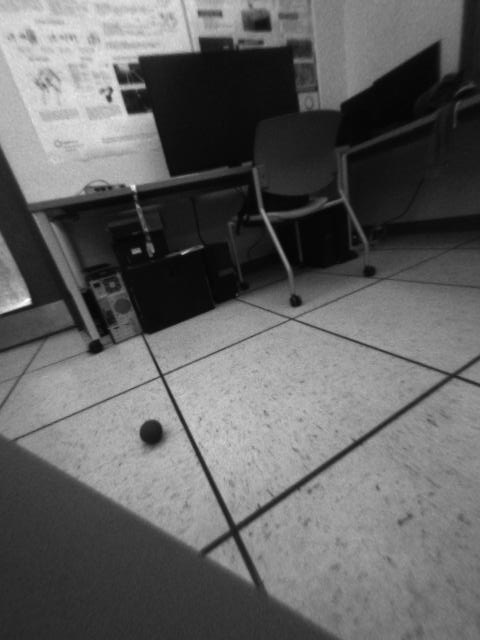dogtoy: (129, 416, 171, 451)
